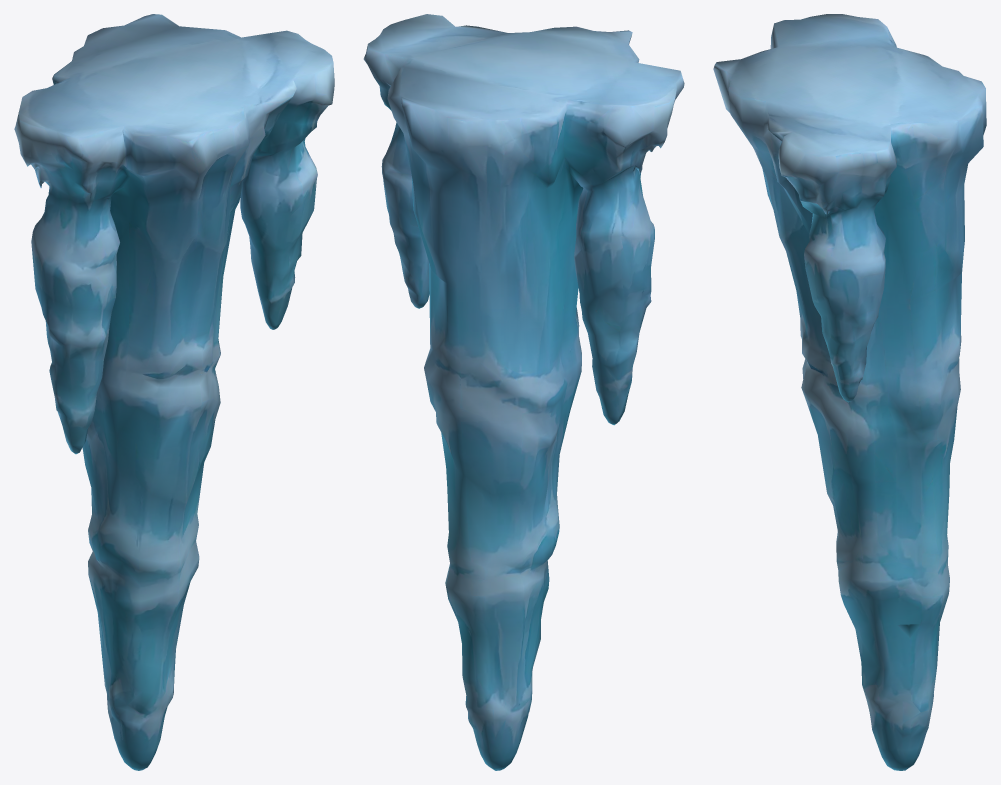
The model's file is SM_Tripo_FrostIcicle.glb.
3 renders of one model, left to right at view 1: azimuth 30°, elevation 25°; view 2: azimuth 150°, elevation 25°; view 3: azimuth 270°, elevation 25°, orthographic. The views are drawn at different scales.
Parts seen in each view (by area): view 1: SM_Tripo_FrostIcicle_LOD0; view 2: SM_Tripo_FrostIcicle_LOD0; view 3: SM_Tripo_FrostIcicle_LOD0.
Boxes of the visible parts, x1,y1,x2,y2 form: SM_Tripo_FrostIcicle_LOD0: (14, 14, 334, 770); SM_Tripo_FrostIcicle_LOD0: (363, 14, 684, 770); SM_Tripo_FrostIcicle_LOD0: (713, 14, 986, 770).
Size of what is drawn, in the model's own units: 2.02 by 4.54 by 1.63.
1 material, 1 textured.
